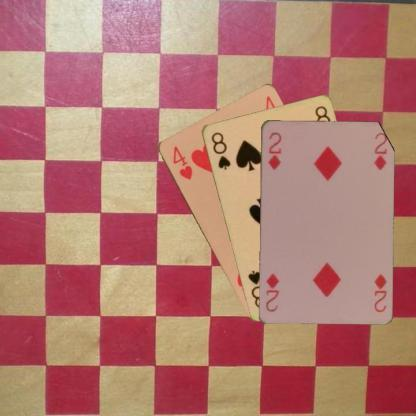2d: (265, 129, 283, 171), (371, 270, 388, 313)
4h: (170, 143, 193, 181)
8s: (208, 129, 232, 171)
